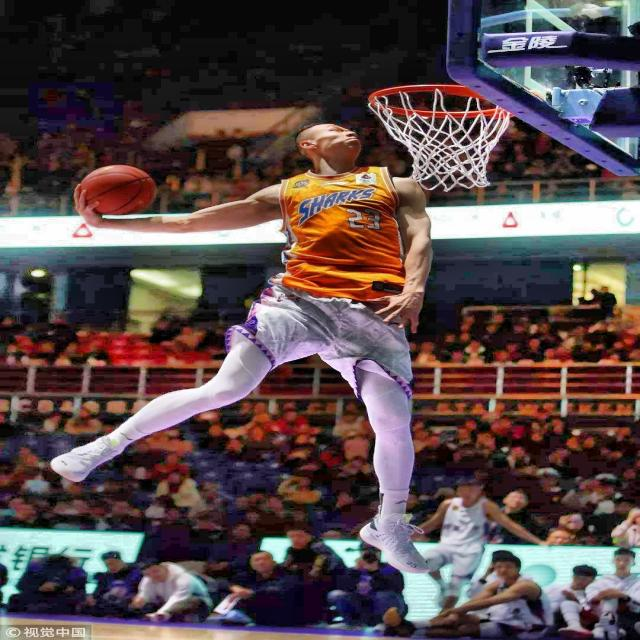board: (72, 163, 165, 220)
rim: (366, 84, 509, 187)
